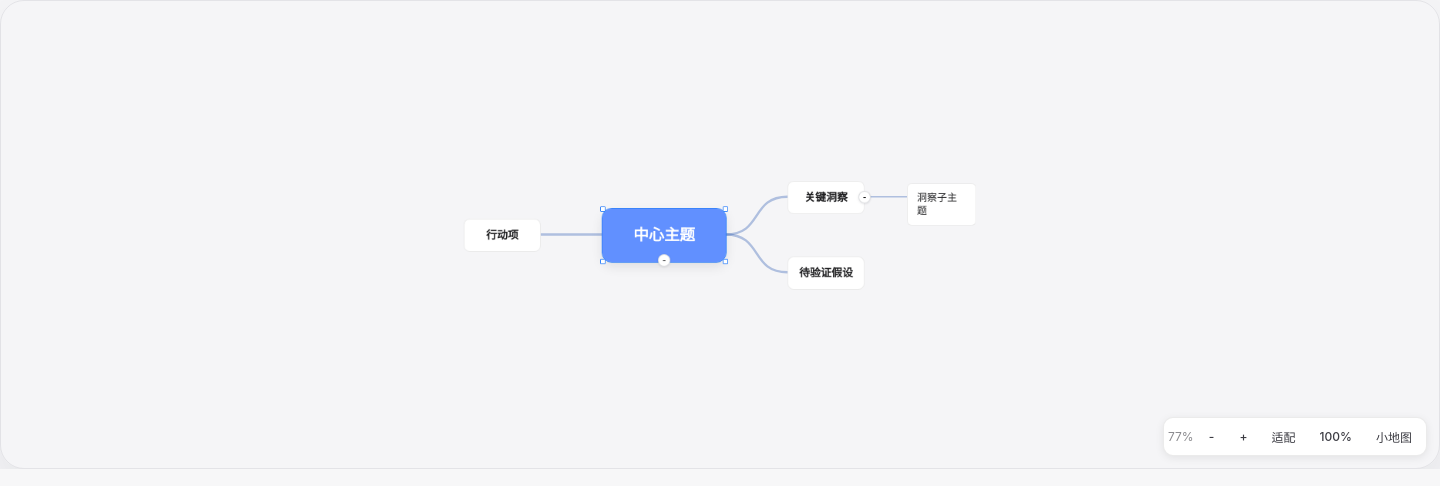
opens a canvas context menu on background right-click with view actions
Right-click the element with class "mindmap-scene".
right_click(720, 234)  # box x1=25 y1=25 x2=1415 y2=444
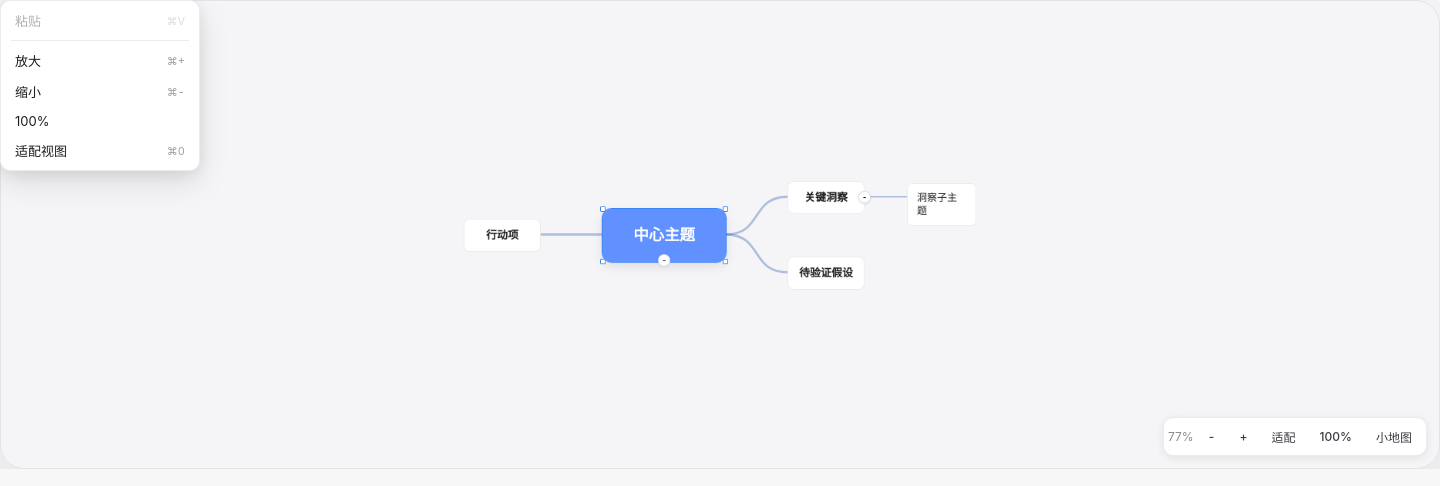
Expected: the menu item "适配视图 ⌘0" is shown, x1=5 y1=135 x2=195 y2=166
Expected: the menu item "100%" is shown, x1=5 y1=107 x2=195 y2=135
Expected: the menu item "放大 ⌘+" is shown, x1=5 y1=45 x2=195 y2=76
